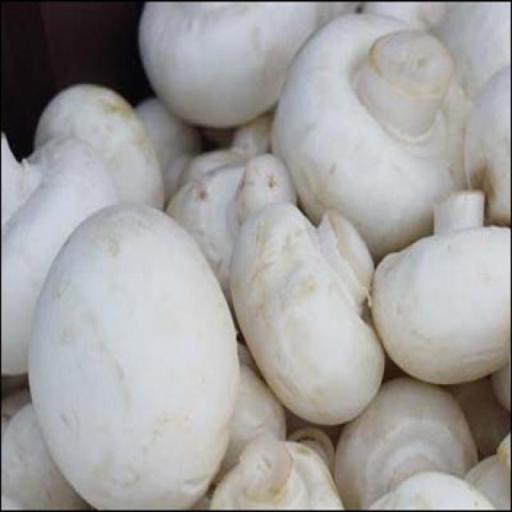mushroom: (26, 202, 236, 512), (278, 10, 471, 246), (230, 195, 385, 421), (373, 194, 512, 384)
